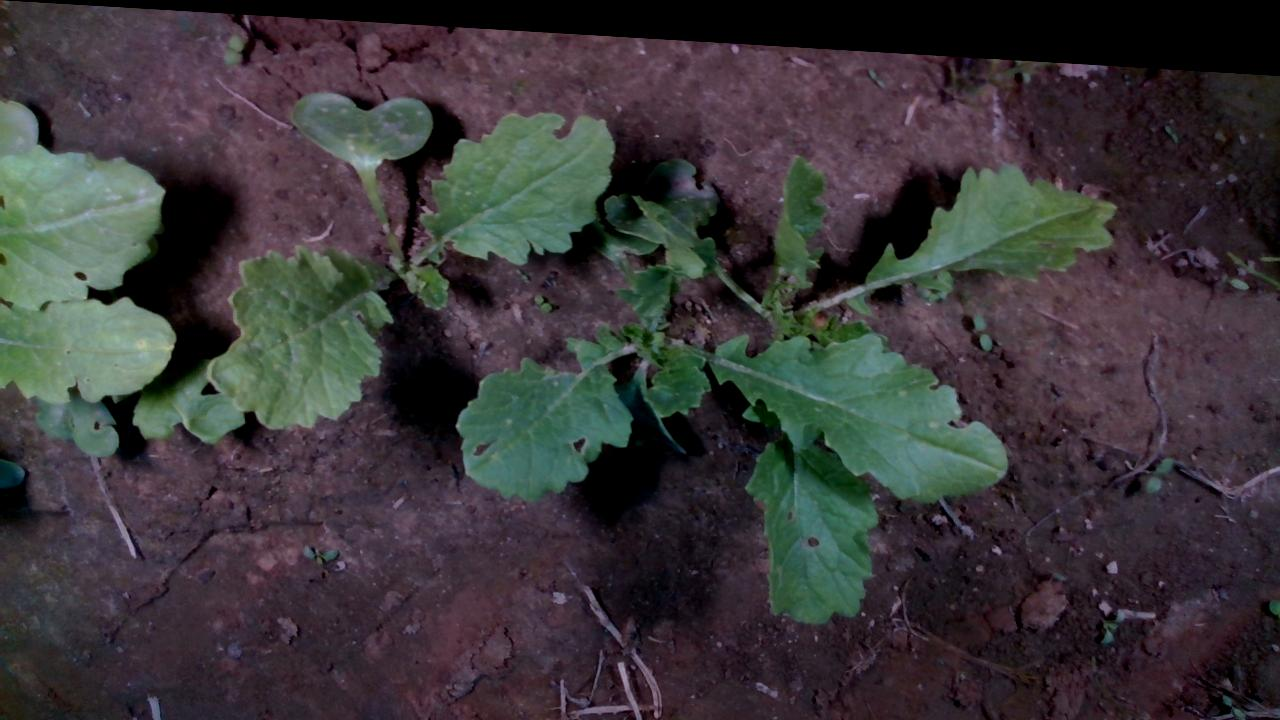weed: (1143, 438, 1174, 482), (970, 297, 992, 339), (300, 539, 339, 561), (532, 286, 552, 308)
